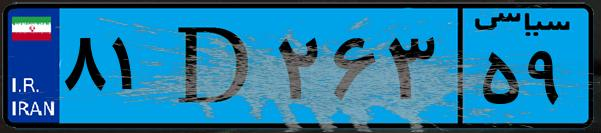1: (110, 28, 158, 98)
2: (270, 28, 330, 110)
3: (385, 28, 445, 110)
5: (475, 38, 525, 113)
6: (330, 28, 385, 110)
8: (57, 26, 110, 100)
9: (525, 38, 570, 115)
D: (158, 12, 270, 120)
